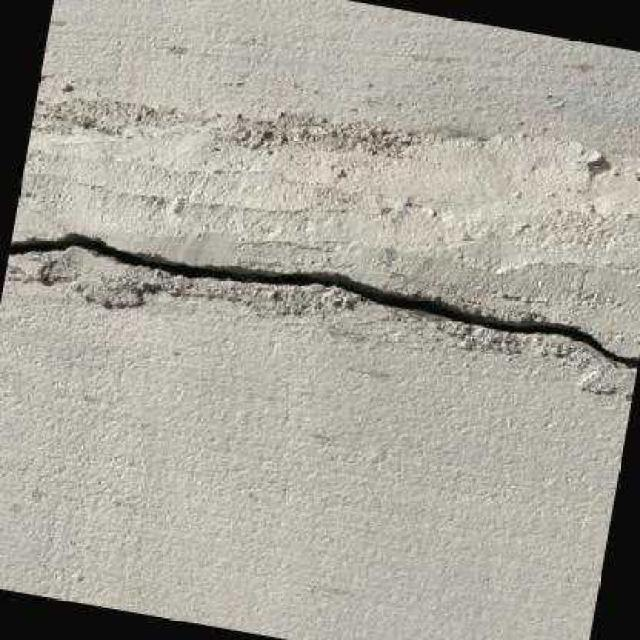D00: (8, 231, 639, 372)
